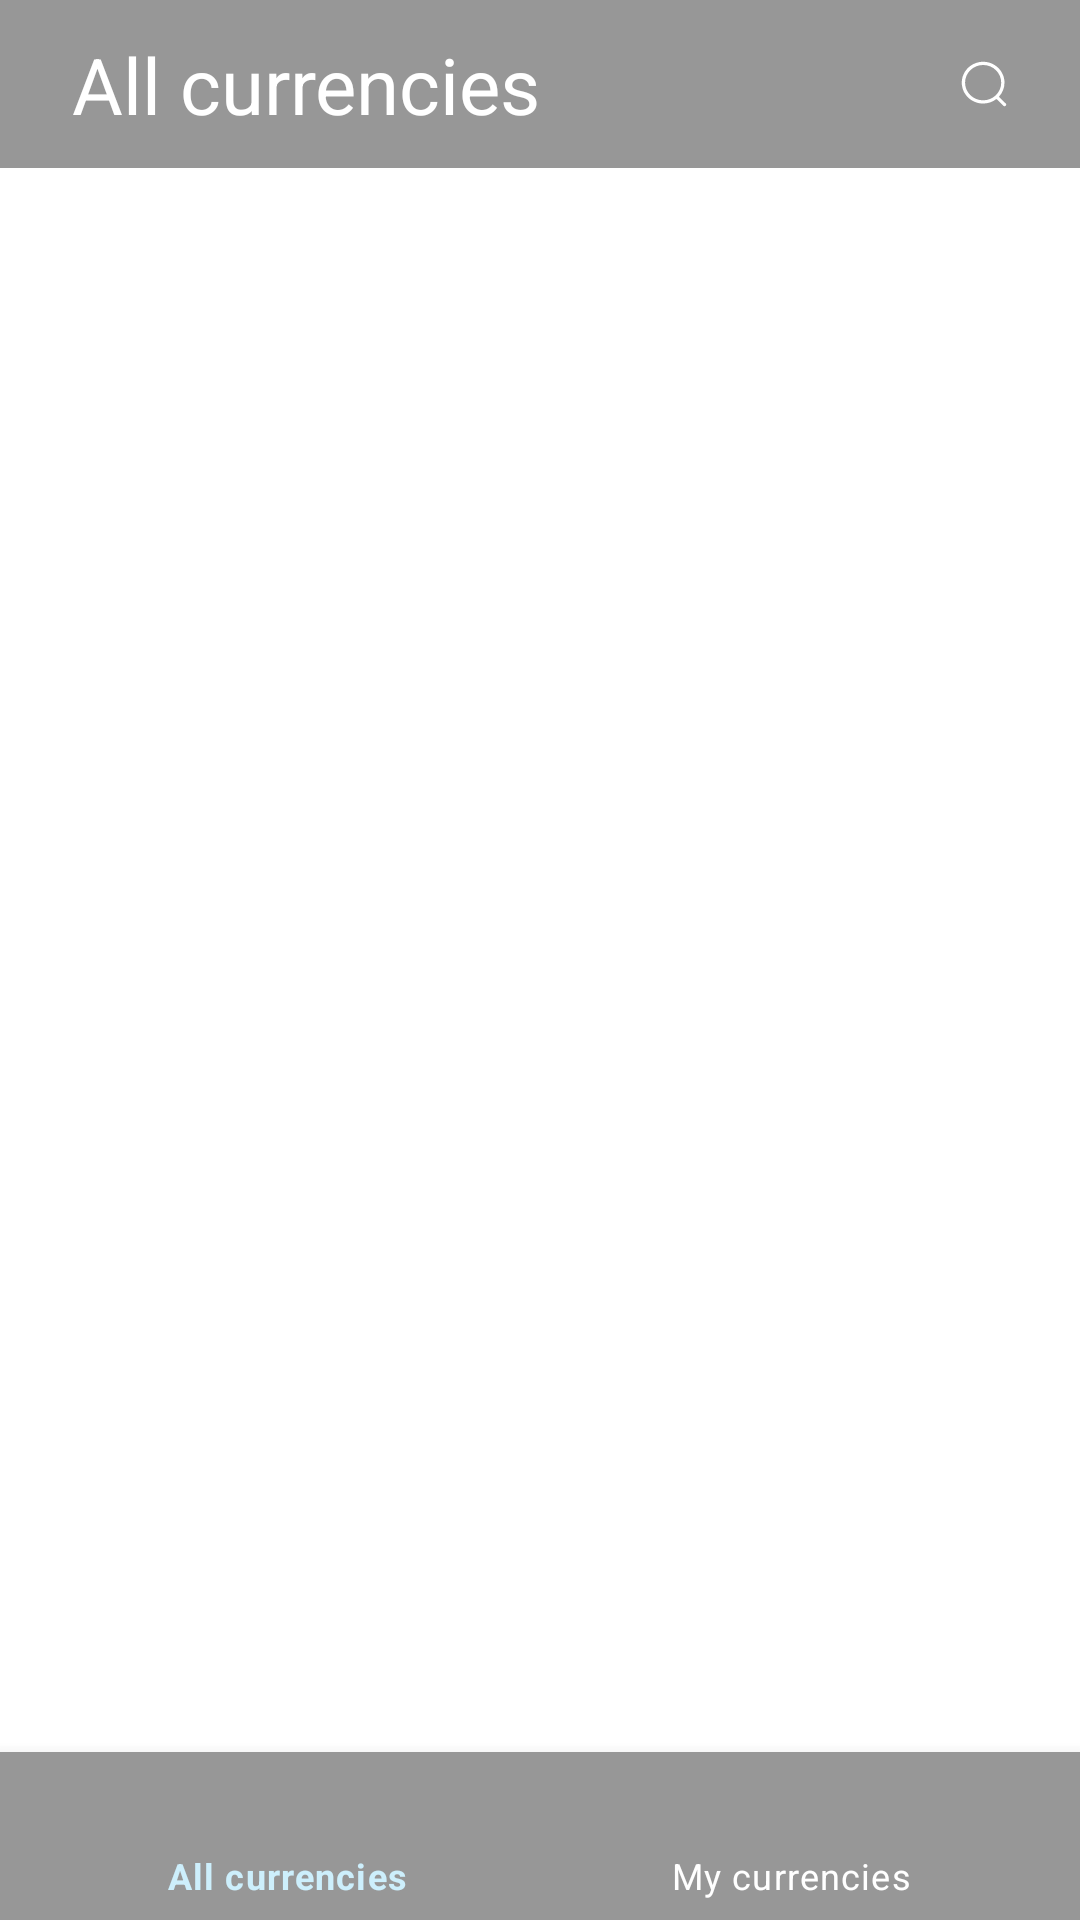

Icons on this 1080*1920 Android screen, each with its box as (x1, y1, x2, y2):
search: (961, 61, 1006, 107)
